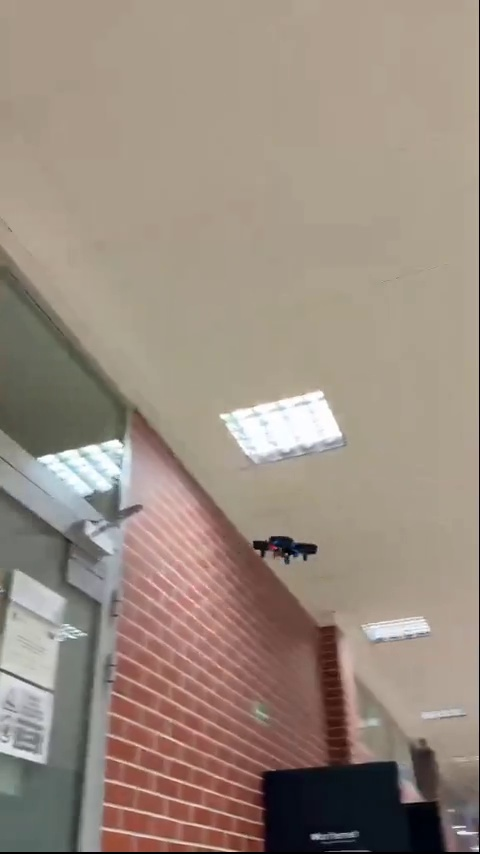drone: (254, 530, 319, 571)
